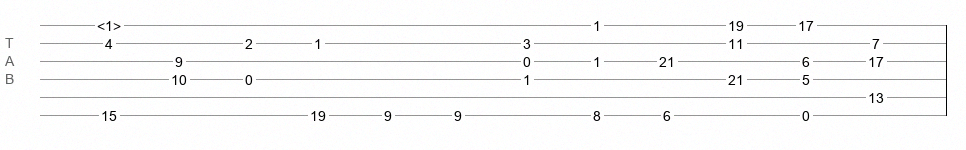0: (245, 72, 253, 82), (523, 54, 531, 64), (802, 108, 810, 118)
1: (314, 36, 322, 46), (523, 72, 531, 82), (593, 54, 601, 64), (593, 18, 601, 28)
10: (171, 72, 187, 82)
11: (728, 36, 744, 46)
13: (868, 90, 884, 100)
15: (101, 108, 117, 118)
17: (798, 18, 814, 28), (868, 54, 884, 64)
19: (310, 108, 326, 118), (728, 18, 744, 28)
2: (245, 36, 253, 46)
21: (659, 54, 675, 64), (728, 72, 744, 82)
3: (523, 36, 531, 46)
4: (105, 36, 113, 46)
5: (802, 72, 810, 82)
6: (663, 108, 671, 118), (802, 54, 810, 64)
7: (872, 36, 880, 46)
8: (593, 108, 601, 118)
9: (175, 54, 183, 64), (384, 108, 392, 118), (454, 108, 462, 118)
harmonic: (97, 18, 121, 28)
